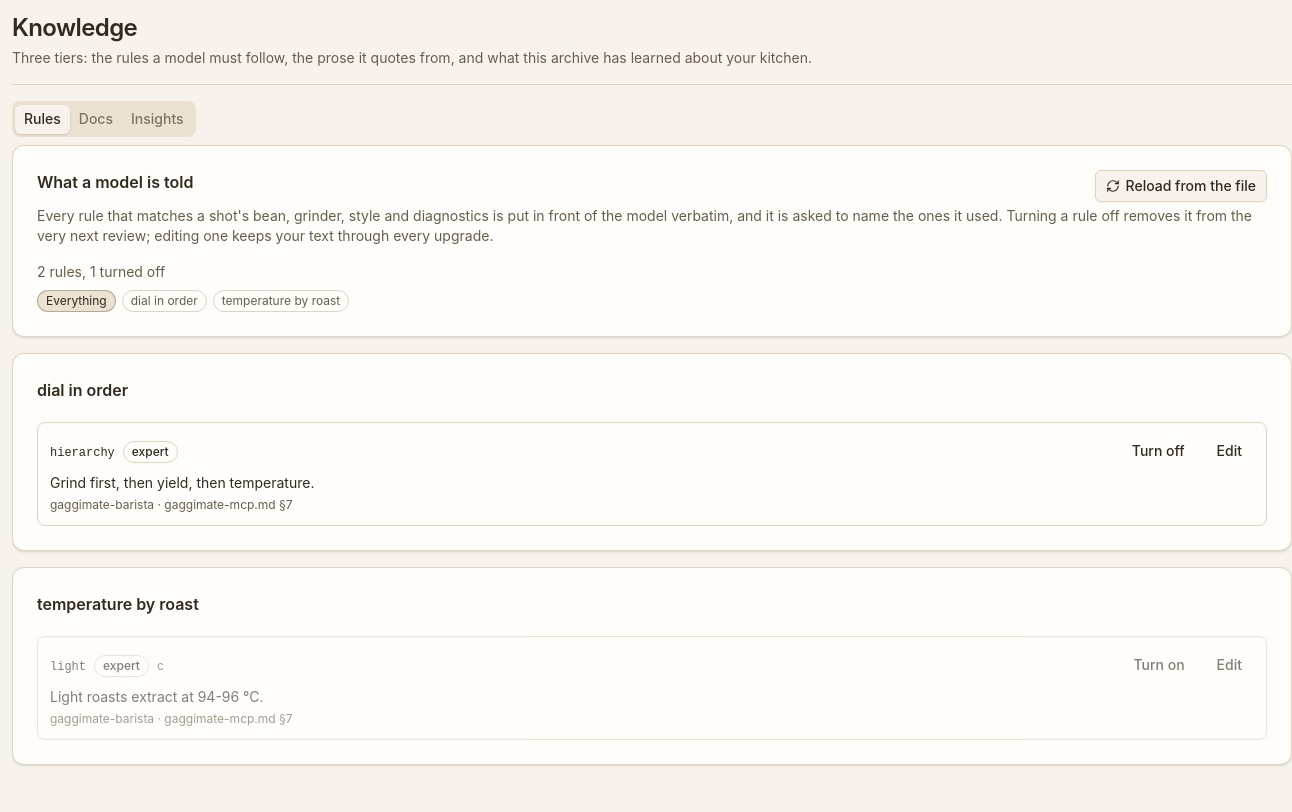
Test: KnowledgePage — the three tiers › switches to the documents
Click the tab "Docs": x=96, y=119 [70, 104, 122, 134]
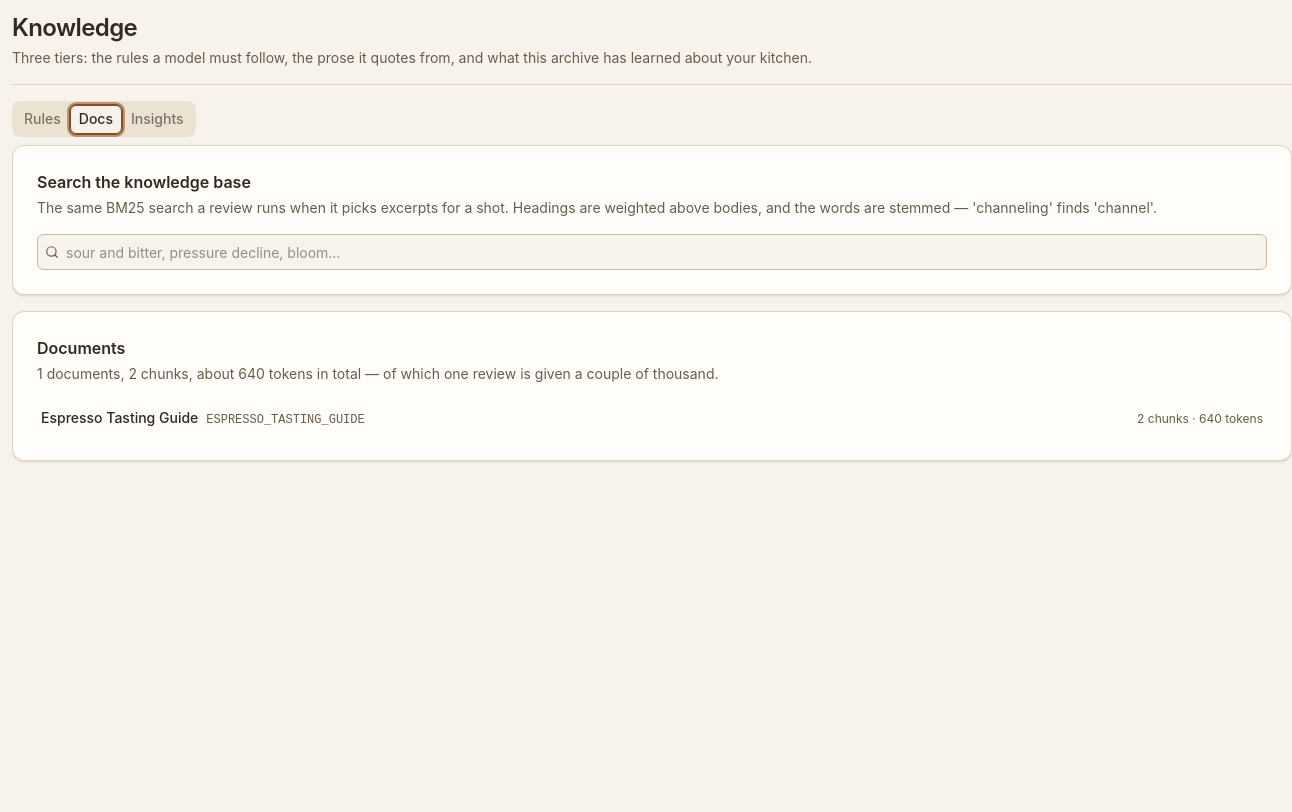
Now the list with test id "doc-list" is shown, box [37, 400, 1267, 436]
Now the text "Espresso Tasting Guide" is shown, box [41, 408, 198, 428]
